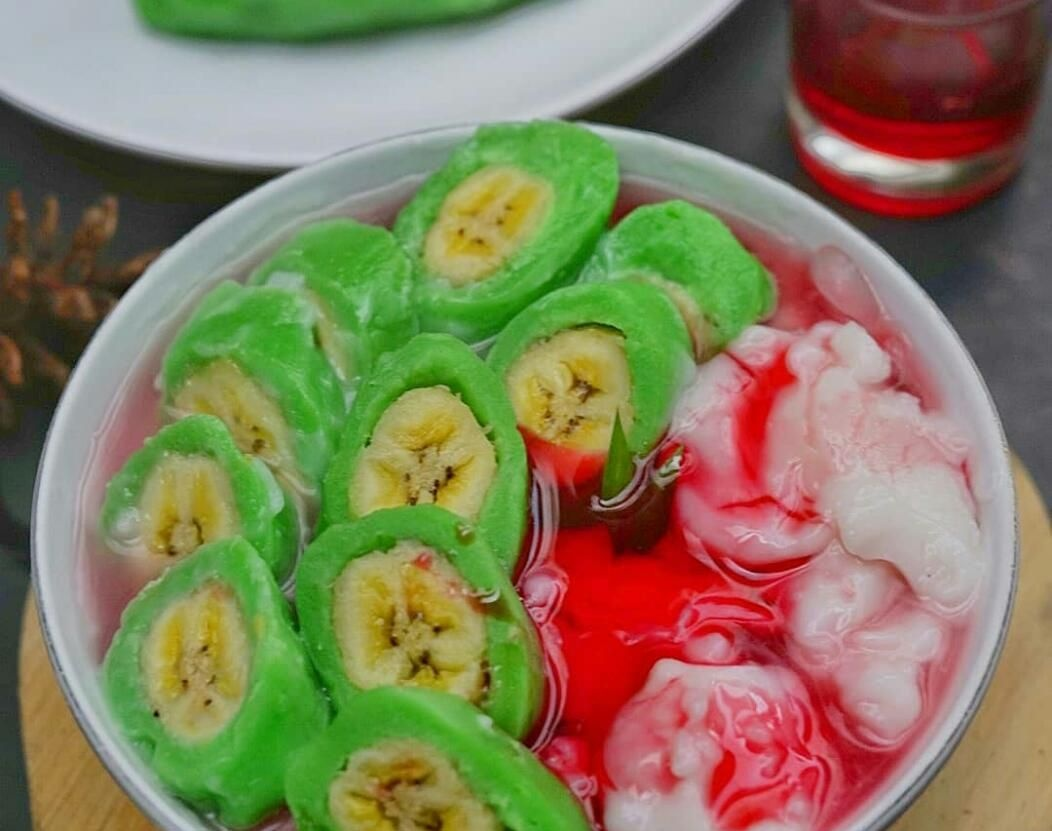es_pisang_ijo: (81, 120, 975, 831)
